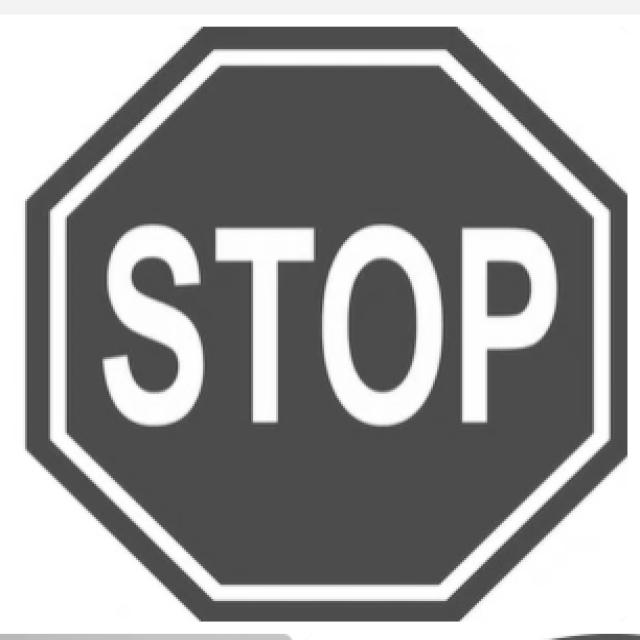Stop-signs: (18, 19, 634, 629)
